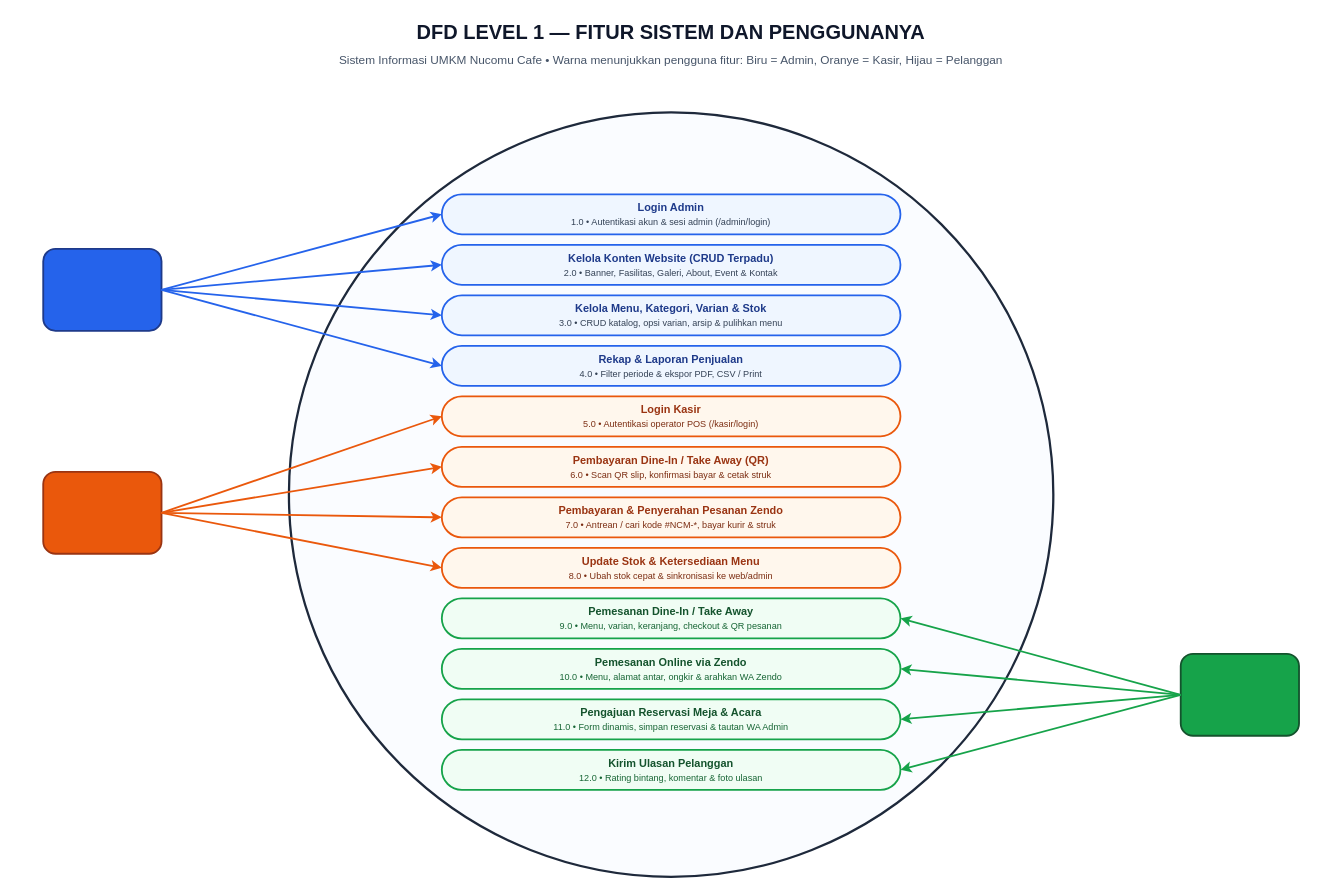
Image size: 1341x894. Some labels were removed from this diagram. Here are the shapes that lost their labels. From the top down, the centre of each, then its label:
At (x=102, y=289): "Admin login internal".
At (x=102, y=512): "Kasir login internal POS".
At (x=1239, y=694): "Pelanggan tanpa login".
